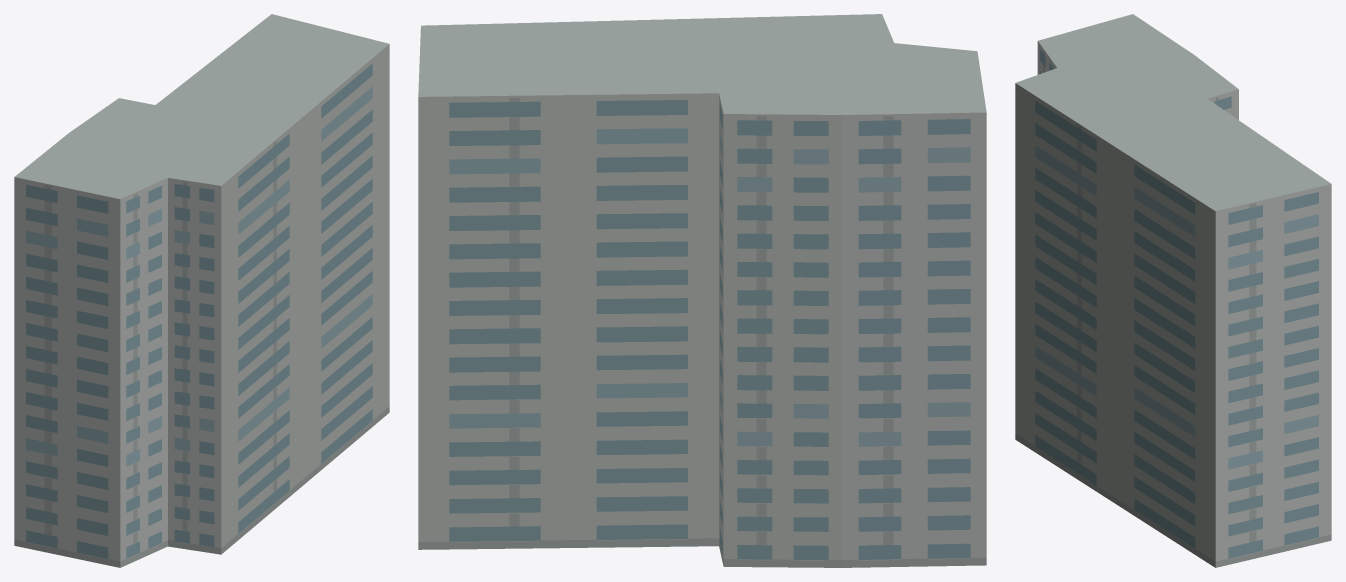
Rendered from residential-5a8a5136-3e35-493c-b880-4fb2ab0b6e78.glb.
The picture shows the model from 3 angles, left to right: view 1: azimuth 30°, elevation 25°; view 2: azimuth 150°, elevation 25°; view 3: azimuth 270°, elevation 25°; orthographic projection. The views are drawn at different scales.
Visible parts, largest first — view 1: residential-5a8a5136-3e35-493c-b880-4fb2ab0b6e78.tmp; view 2: residential-5a8a5136-3e35-493c-b880-4fb2ab0b6e78.tmp; view 3: residential-5a8a5136-3e35-493c-b880-4fb2ab0b6e78.tmp.
Boxes of the visible parts, <box> form: residential-5a8a5136-3e35-493c-b880-4fb2ab0b6e78.tmp: <box>14,14,389,567</box>; residential-5a8a5136-3e35-493c-b880-4fb2ab0b6e78.tmp: <box>418,14,986,567</box>; residential-5a8a5136-3e35-493c-b880-4fb2ab0b6e78.tmp: <box>1015,14,1331,567</box>.
Bounding box in the file's own units: 69.99 × 59 × 47.44.
